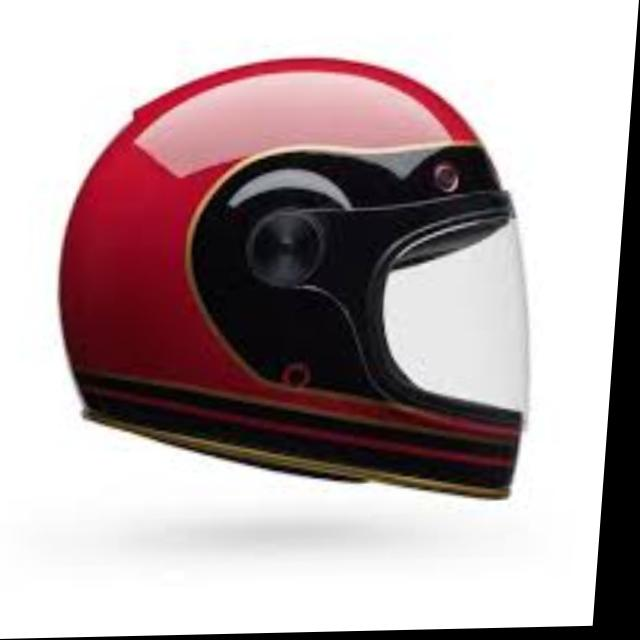motorcycle-helmets: (27, 28, 584, 555)
